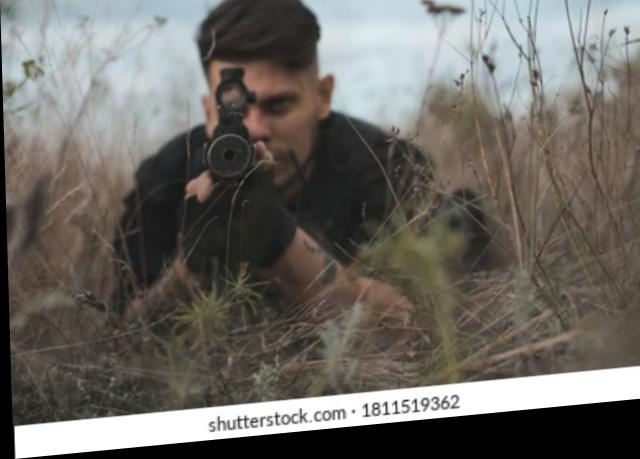other: (101, 0, 451, 328)
